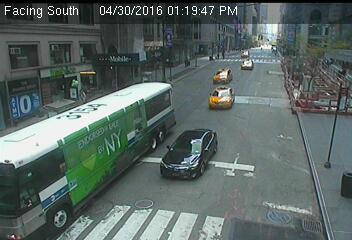neg: (152, 78, 165, 95), (215, 83, 227, 98), (240, 83, 249, 96), (261, 64, 270, 76), (282, 51, 287, 58), (246, 46, 251, 52), (202, 55, 205, 59)
pos: (75, 86, 89, 105), (220, 50, 228, 61), (260, 45, 264, 51)
